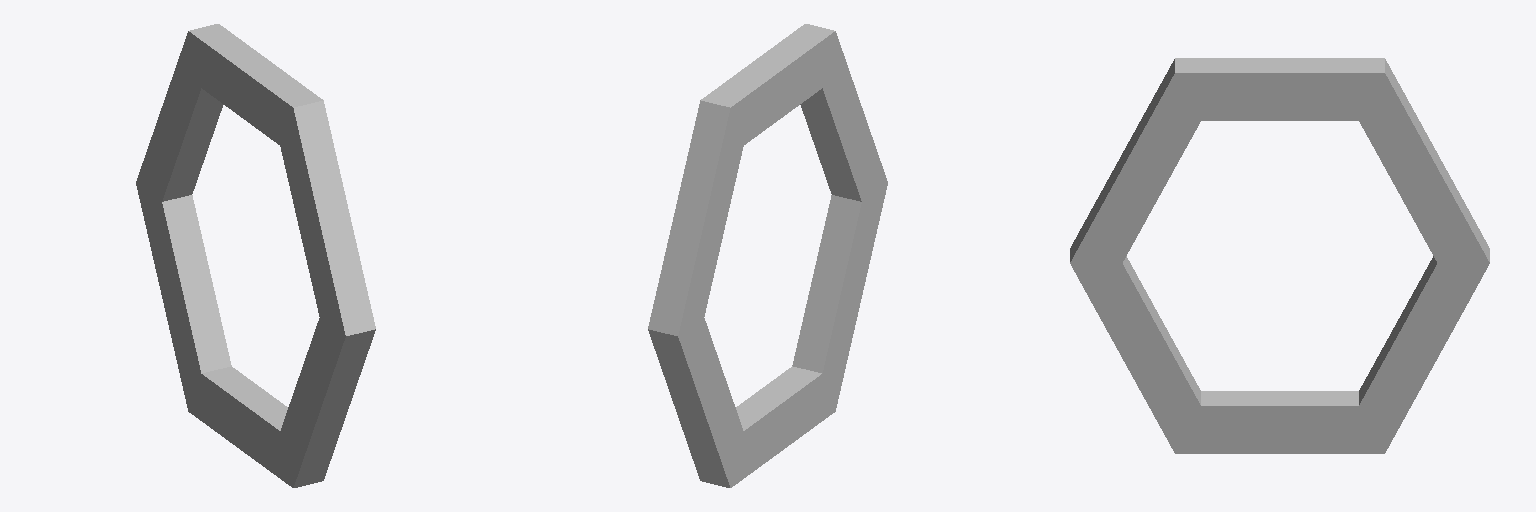
File: humanity_phylactery_inner_frame.obj
3 views of the same model, side by side, from view 1: azimuth 30°, elevation 25°; view 2: azimuth 150°, elevation 25°; view 3: azimuth 270°, elevation 25° (orthographic).
Parts seen in each view (by area): view 1: Outer_frame_Cube; view 2: Outer_frame_Cube; view 3: Outer_frame_Cube.
Boxes of the visible parts, <box> form: Outer_frame_Cube: <box>136,24,375,487</box>; Outer_frame_Cube: <box>648,24,887,487</box>; Outer_frame_Cube: <box>1070,58,1489,453</box>.
Bounding box in the file's own units: 0.0625 × 0.75 × 0.75.